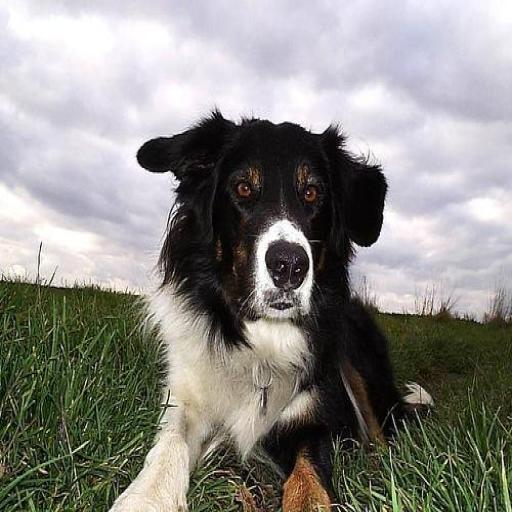dog_face: (130, 97, 394, 345)
